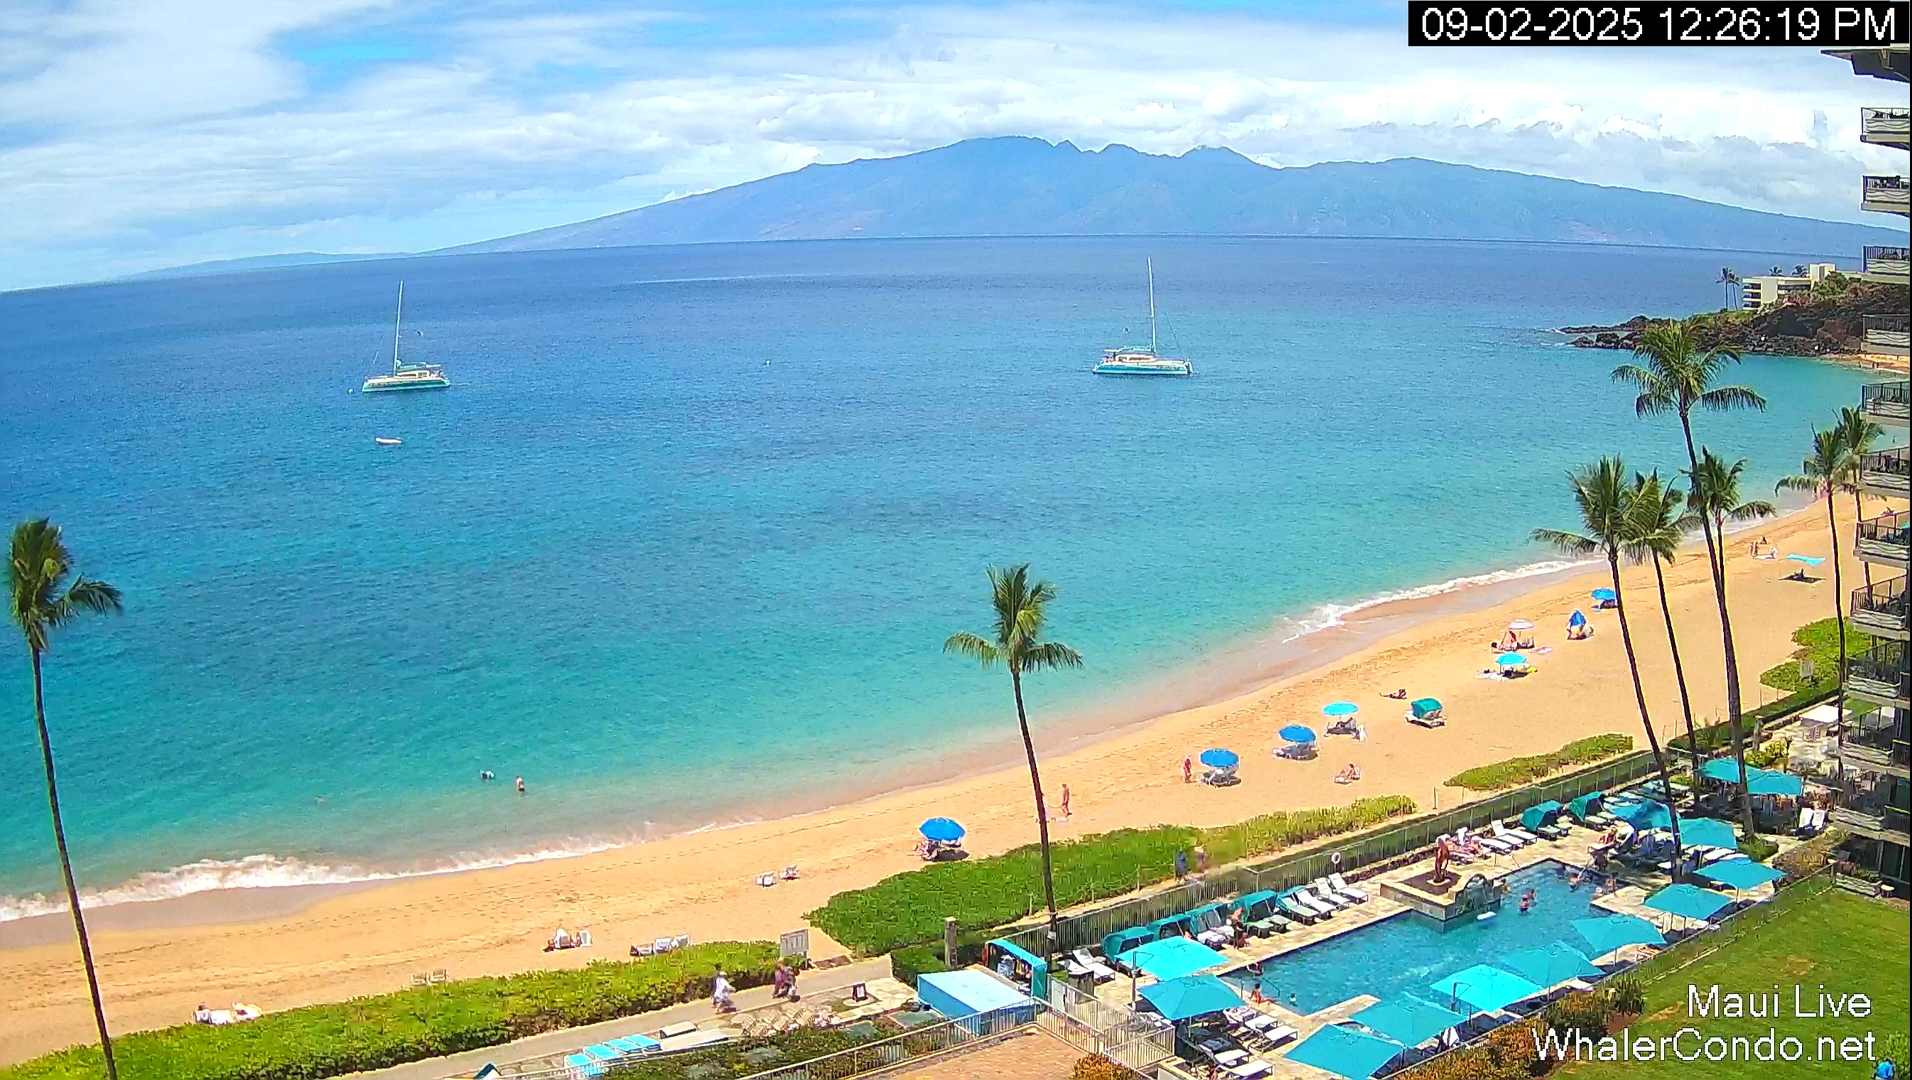boat: (1092, 256, 1193, 376), (361, 279, 451, 393), (1092, 344, 1152, 376)
person: (712, 970, 736, 1008), (1566, 609, 1587, 639), (1872, 1059, 1895, 1080), (1060, 783, 1072, 818), (773, 963, 785, 996), (1183, 755, 1193, 783), (1249, 983, 1262, 1004), (1519, 897, 1529, 915), (479, 770, 495, 781), (1288, 992, 1298, 1007), (516, 776, 525, 792), (1749, 541, 1757, 559), (1770, 544, 1778, 559), (1753, 541, 1759, 559)
